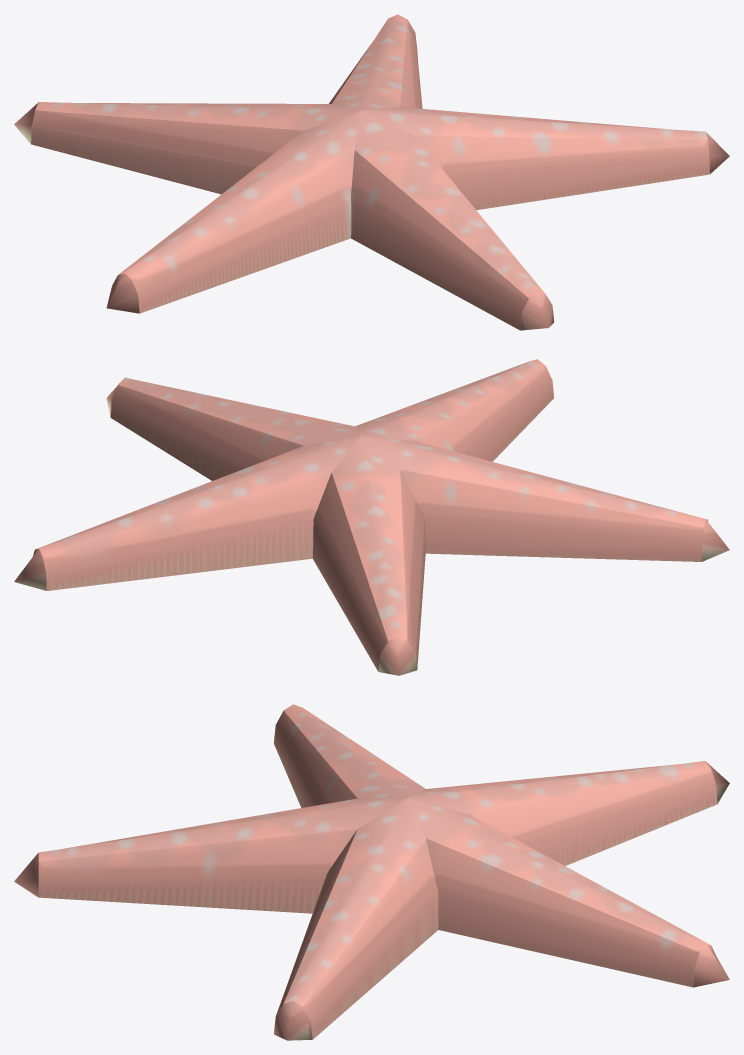
File: StarFish_1.fbx
3 renders of one model, top to bottom at view 1: azimuth 30°, elevation 25°; view 2: azimuth 150°, elevation 25°; view 3: azimuth 270°, elevation 25°, orthographic. The views are drawn at different scales.
Parts seen in each view (by area): view 1: StarFish; view 2: StarFish; view 3: StarFish.
Boxes of the visible parts, x1=… form: StarFish: x1=14, y1=14, x2=729, y2=330; StarFish: x1=14, y1=359, x2=729, y2=675; StarFish: x1=14, y1=704, x2=729, y2=1040.
Bounding box in the file's own units: 40.85 × 5.45 × 38.85.
Materials: 1 (1 with a texture image).
